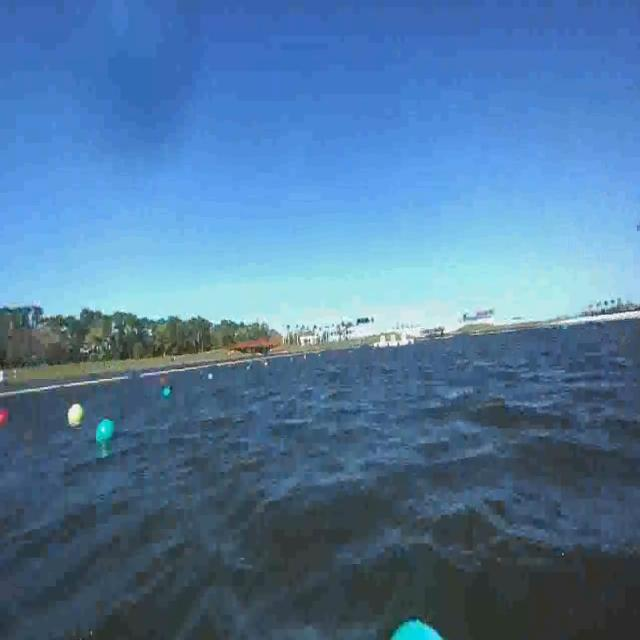green-buoy: (378, 616, 474, 640), (95, 418, 114, 442), (161, 384, 170, 398)
red-buoy: (0, 410, 9, 424)
yellow-buoy: (68, 406, 85, 424)
